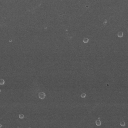corrosion: (93, 118, 105, 128), (37, 91, 47, 100), (115, 29, 125, 38), (81, 36, 90, 45), (118, 119, 127, 128), (17, 113, 26, 120), (80, 91, 87, 98), (1, 77, 6, 86)
